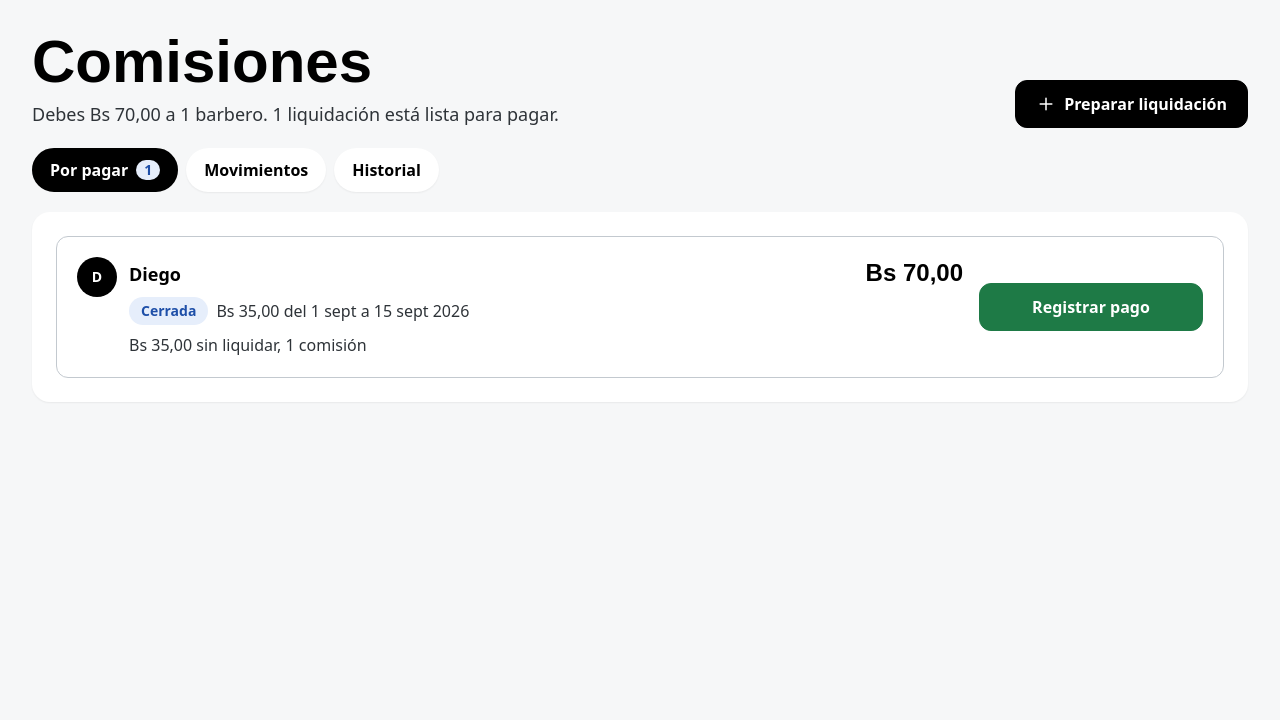
CommissionsPage › lists movements by day with plain rates and filters by state
This screenshot has width=1280, height=720.
Click the tab "Movimientos" at (256, 170), box [186,148,326,192]
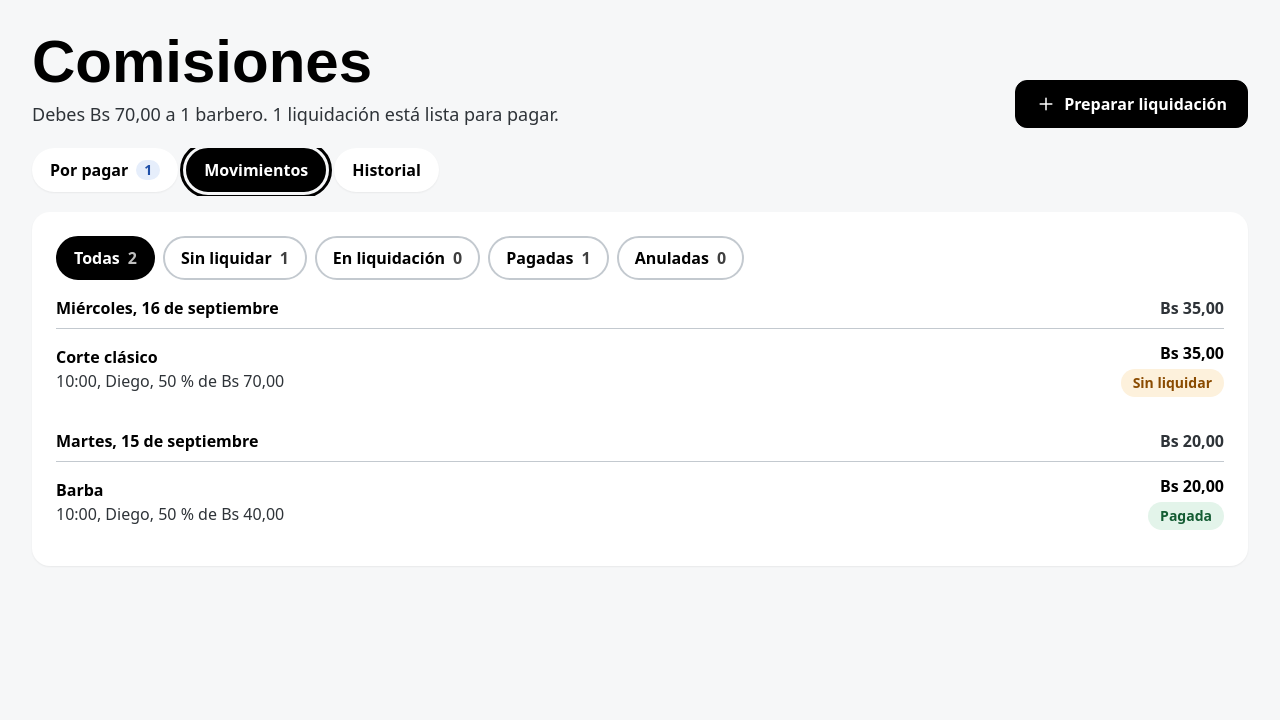
Check: the text "10:00, Diego, 50 % de Bs 70,00" is shown, box [56,370,284,392]
Click the button "Pagadas 1" at (548, 258), box [488,236,609,280]
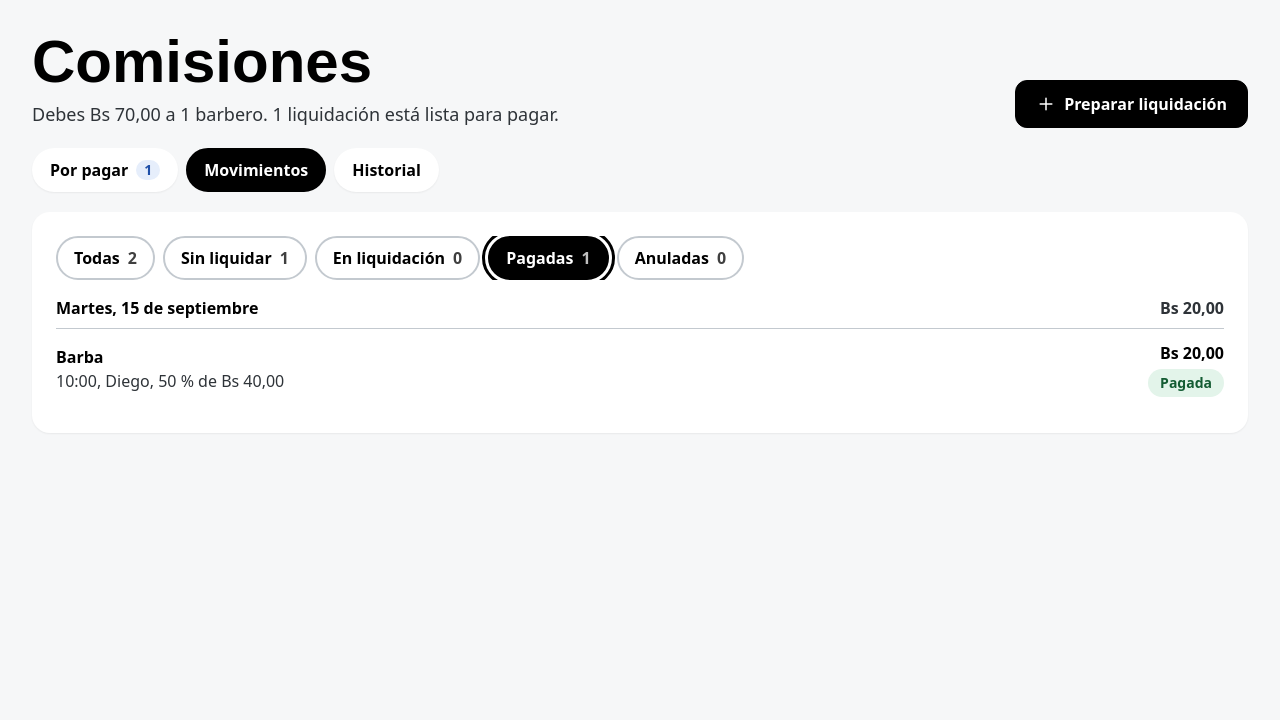
Check: the text "Barba" is shown, box [56,346,104,368]
Check: the text "Corte clásico" is gone
